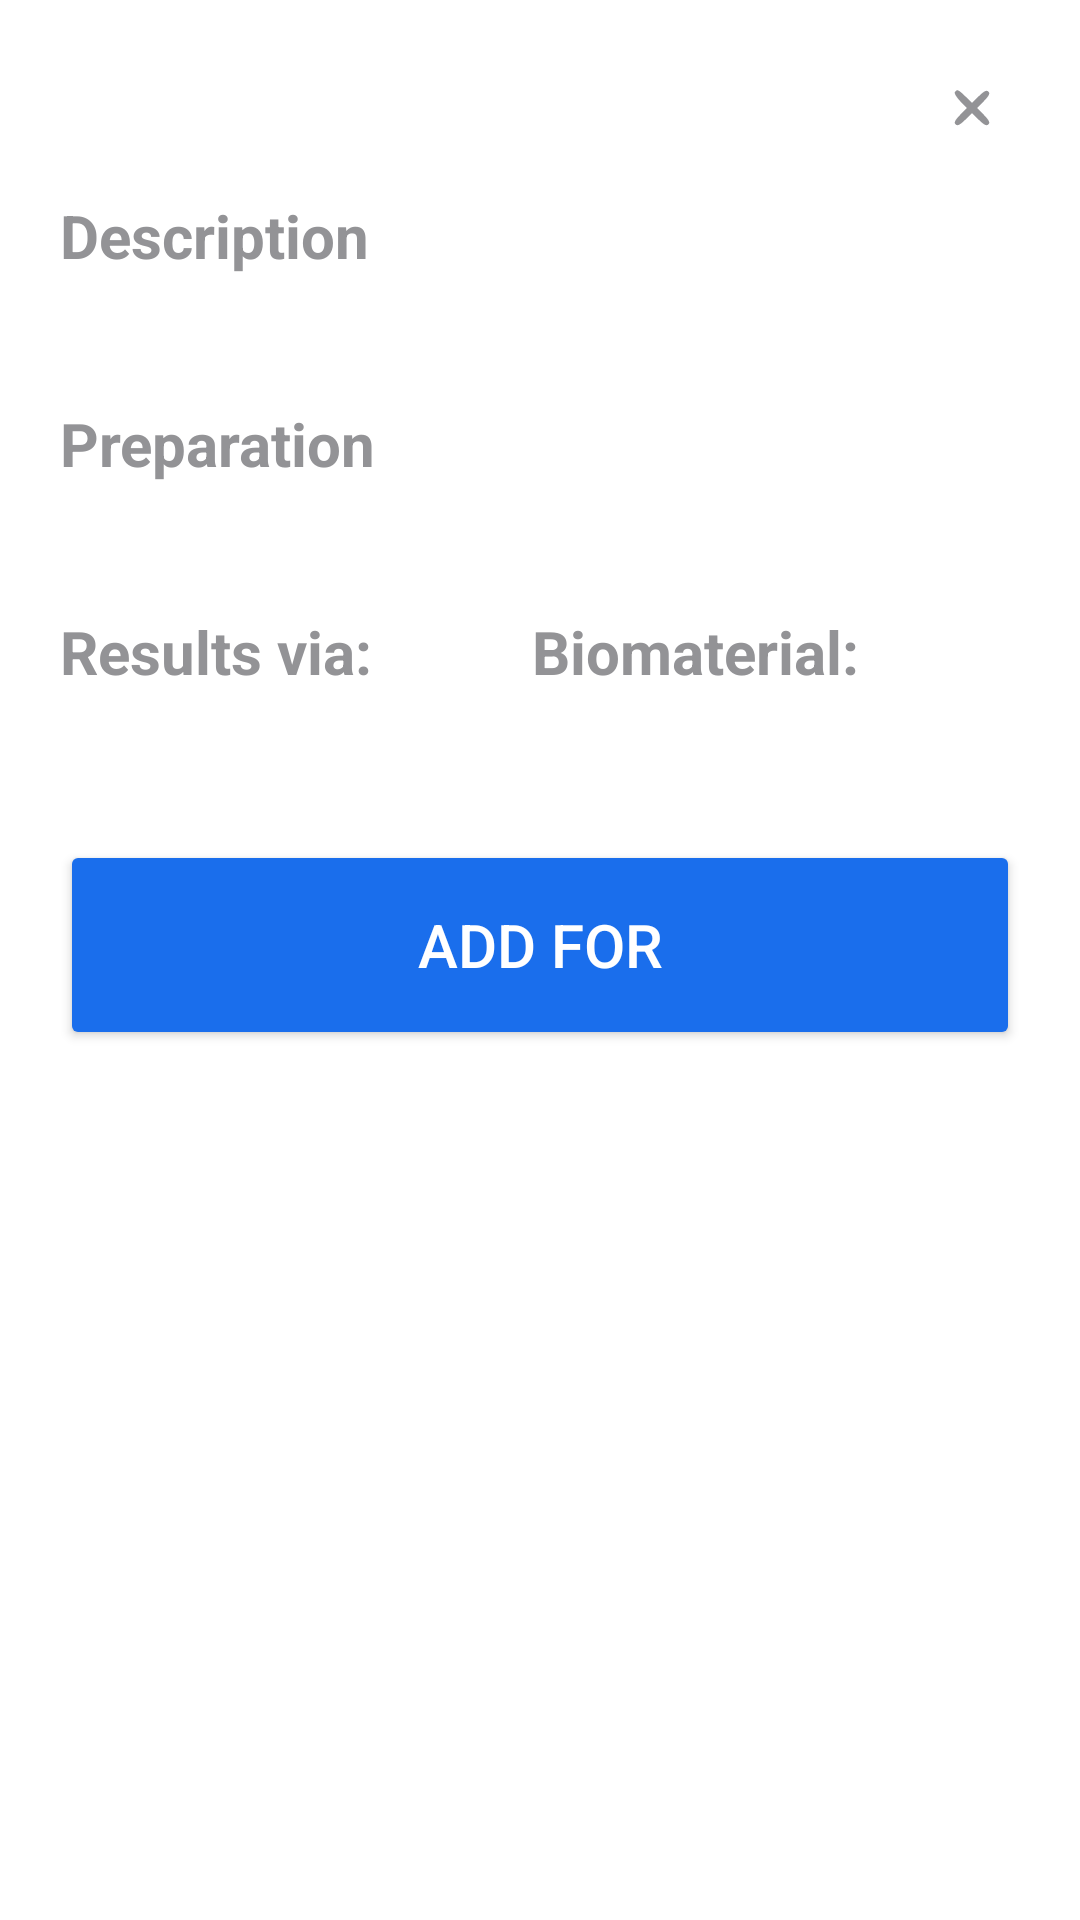

Locate icon controls on the screen. Image size 1080 × 1920, boxes as (x1, y1, x2, y2).
cross: (954, 90, 990, 125)
